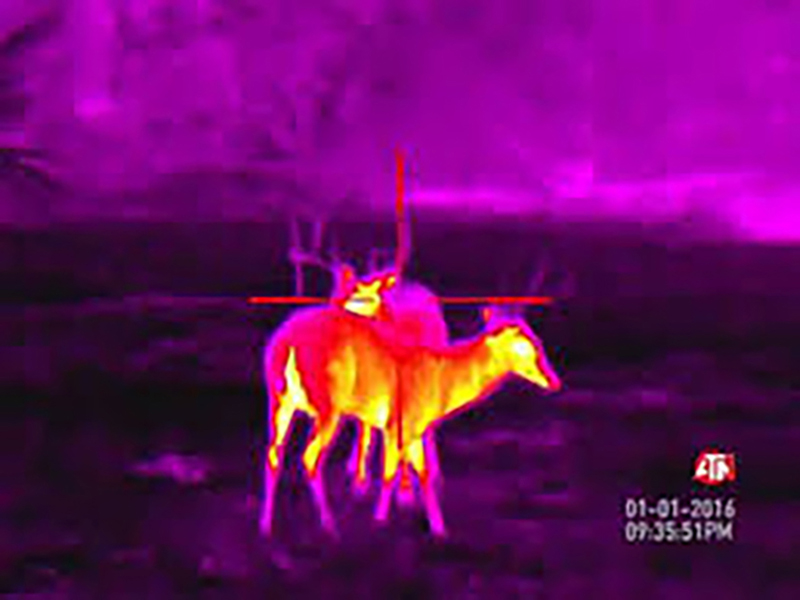cervo: (249, 308, 565, 519)
